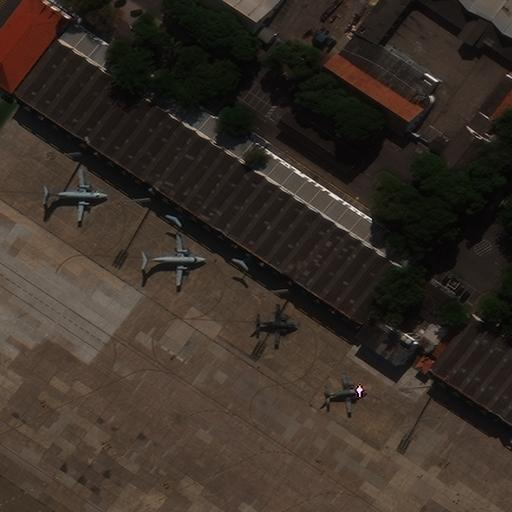Medium Civil Transport: (144, 233, 203, 285), (46, 169, 105, 219)
Military Transport: (326, 372, 363, 412), (257, 304, 292, 345)
